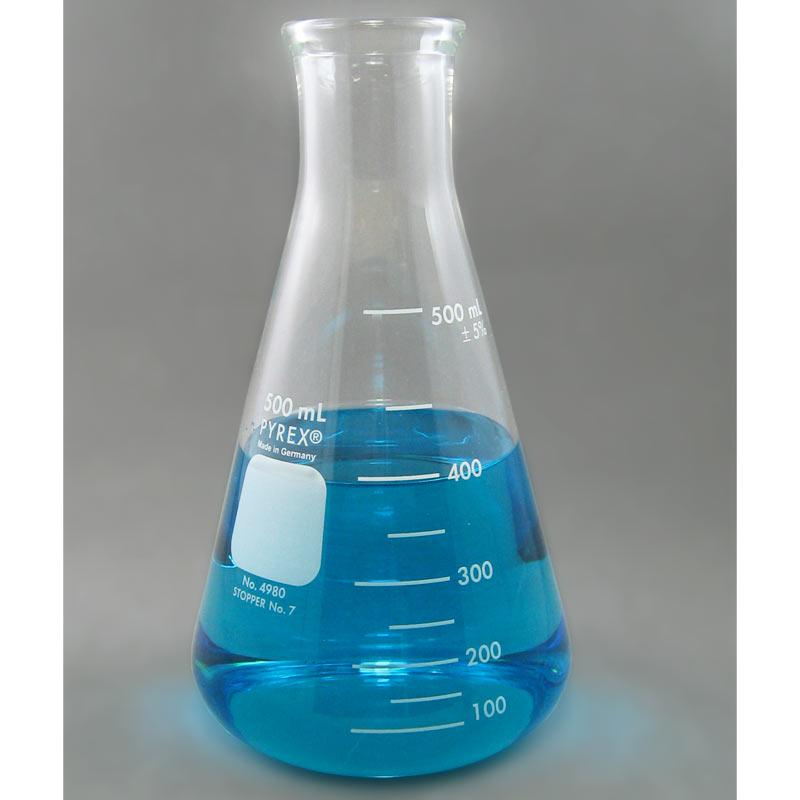Titrarion: (189, 9, 579, 775)
